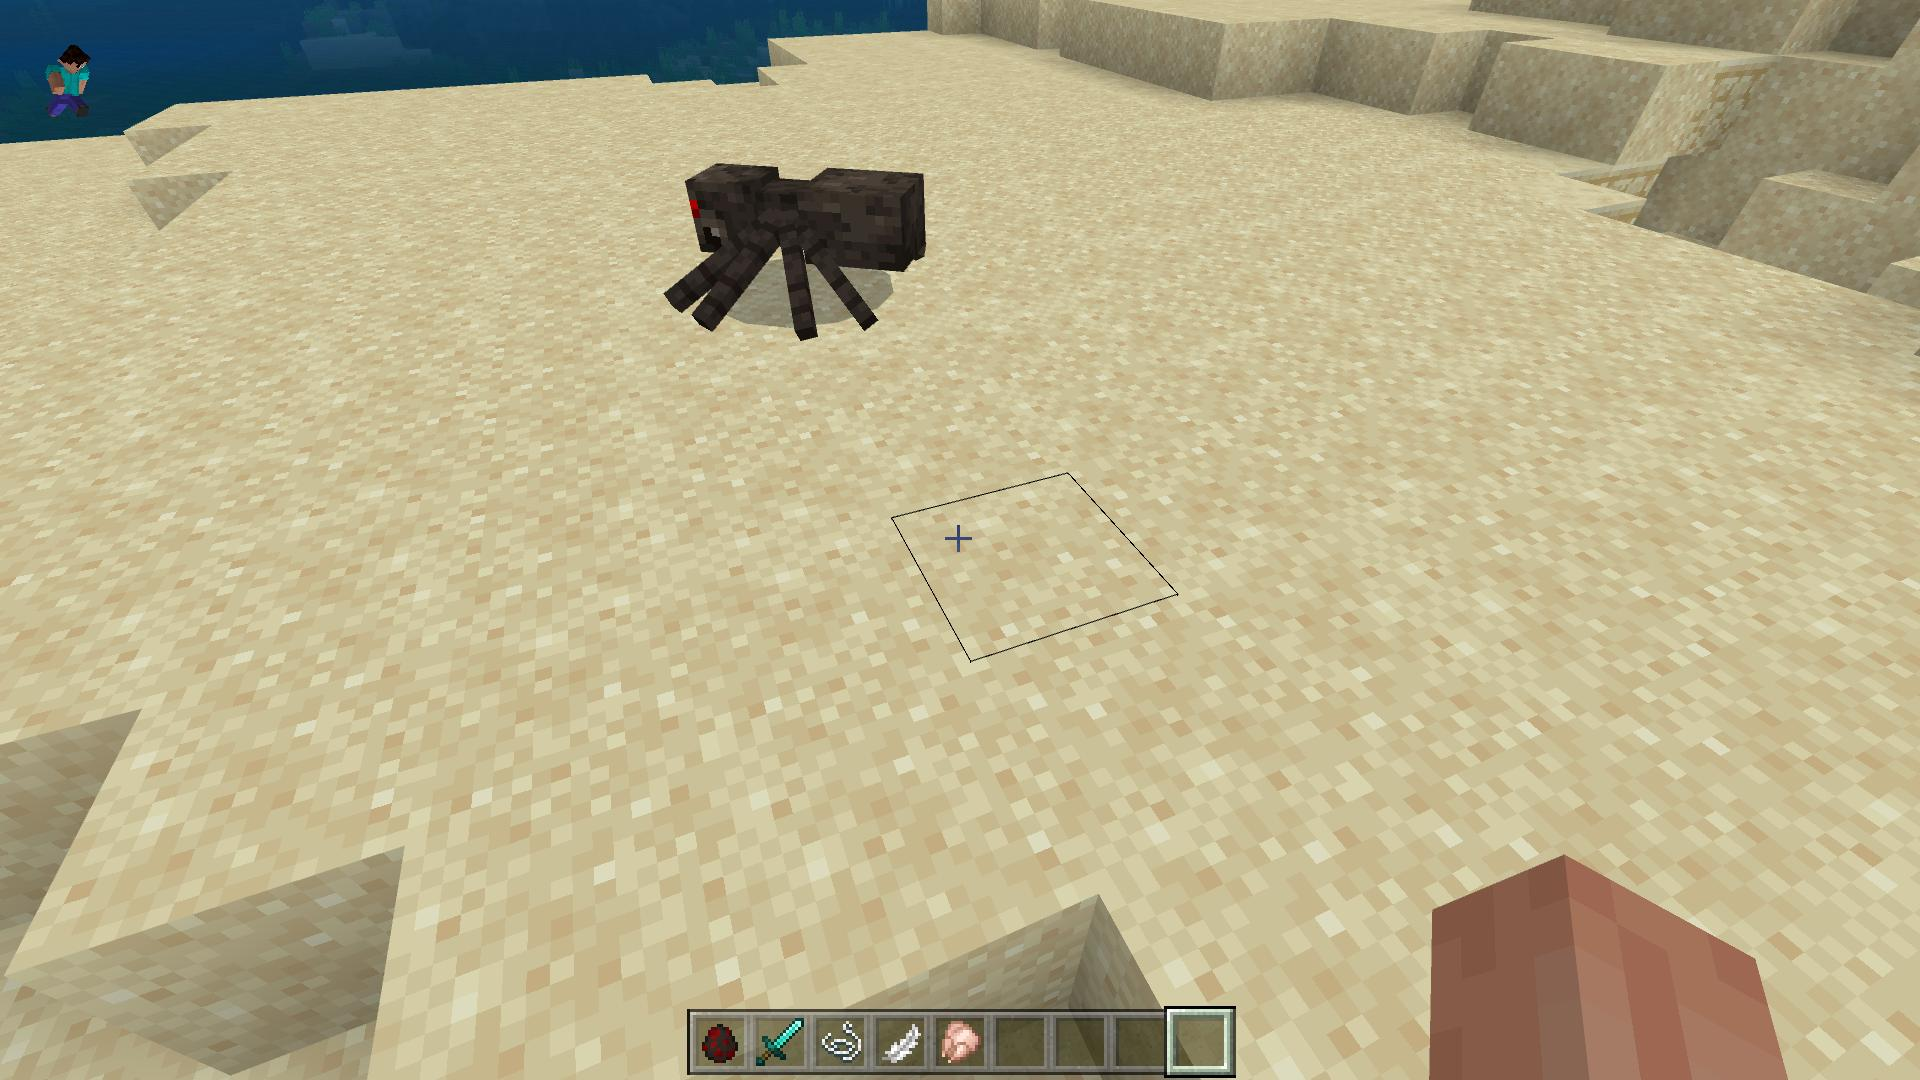spider: (665, 153, 928, 345)
